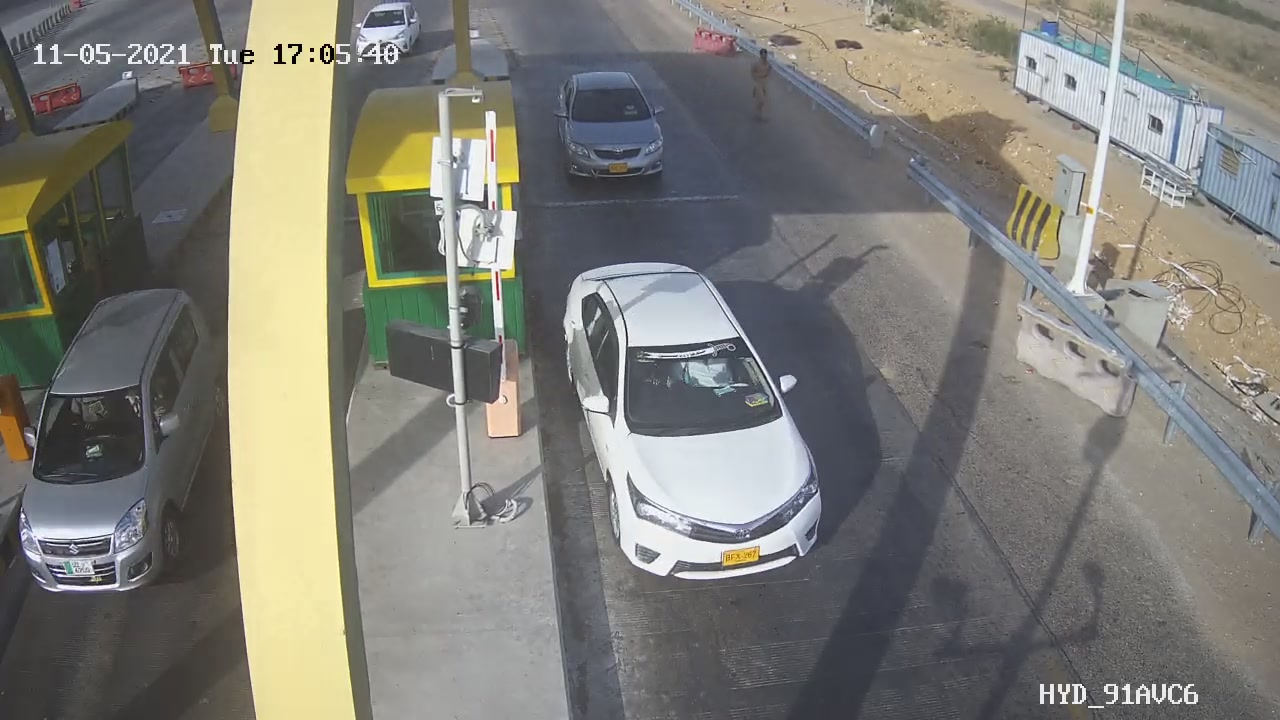F1: (538, 55, 685, 194)
